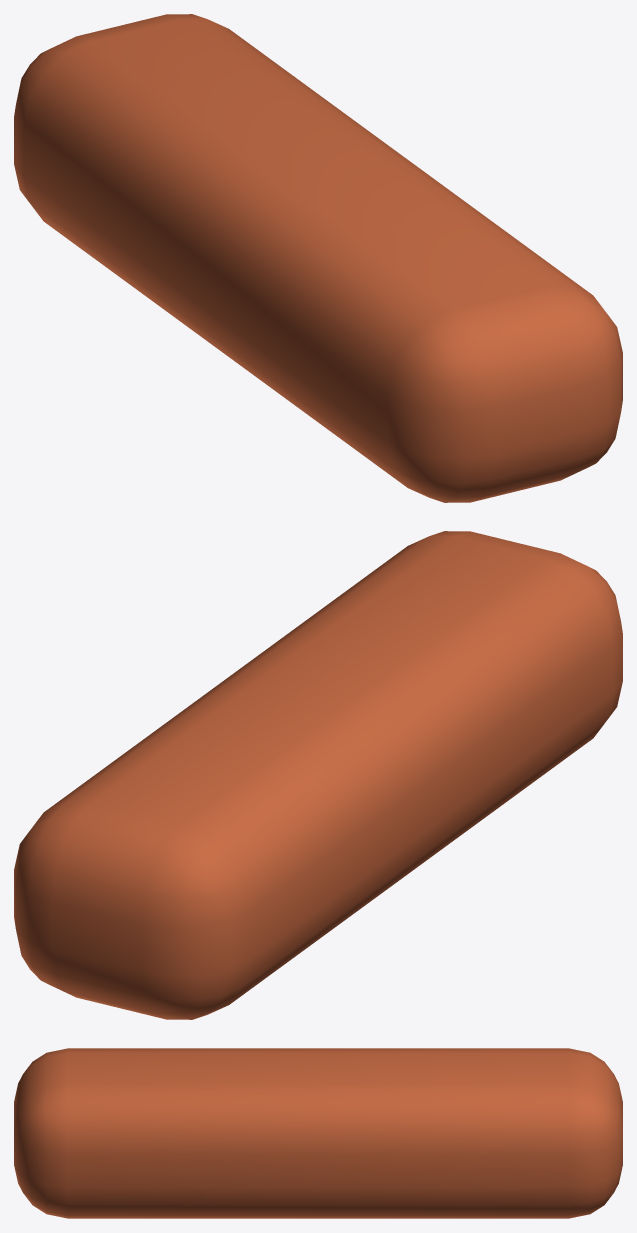
Rendered from jigsaw_pendulum_lever.glb.
3 views of the same model, one above another, from view 1: azimuth 30°, elevation 25°; view 2: azimuth 150°, elevation 25°; view 3: azimuth 270°, elevation 25° (orthographic). The views are drawn at different scales.
Parts seen in each view (by area): view 1: jigsaw_pendulum_lever; view 2: jigsaw_pendulum_lever; view 3: jigsaw_pendulum_lever.
Boxes of the visible parts, x1,y1,x2,y2 form: jigsaw_pendulum_lever: [14, 14, 622, 502]; jigsaw_pendulum_lever: [14, 531, 622, 1019]; jigsaw_pendulum_lever: [14, 1048, 622, 1218].
Size of the model in its own units: 0.01 by 0.008 by 0.034.
